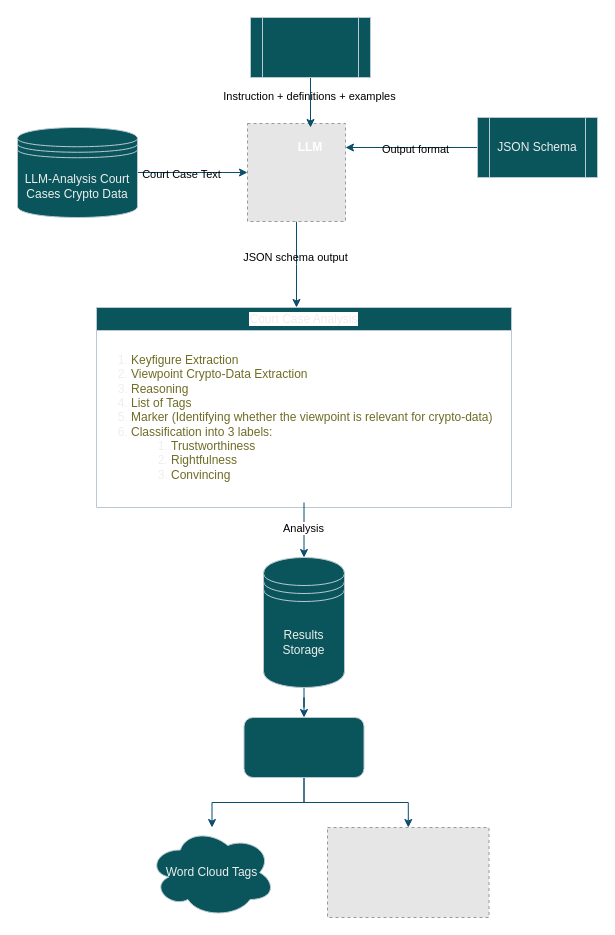
This 615x935 diagram has some shape labels left out. Grey dashed boxes stand in for pictures. The centre of each missing label's shape, as x and y in pixels:
"System Prompt" goes at [310,47].
"Visualize" goes at [303,747].
